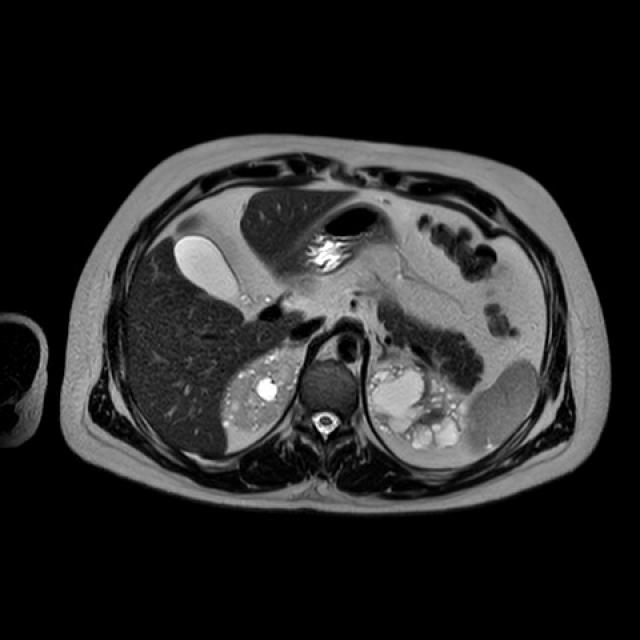sag: (222, 348, 301, 433)
sol: (370, 356, 469, 452)
